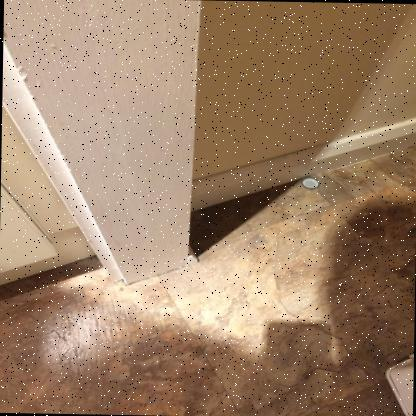Metal bottle cap: (301, 177, 320, 189)
